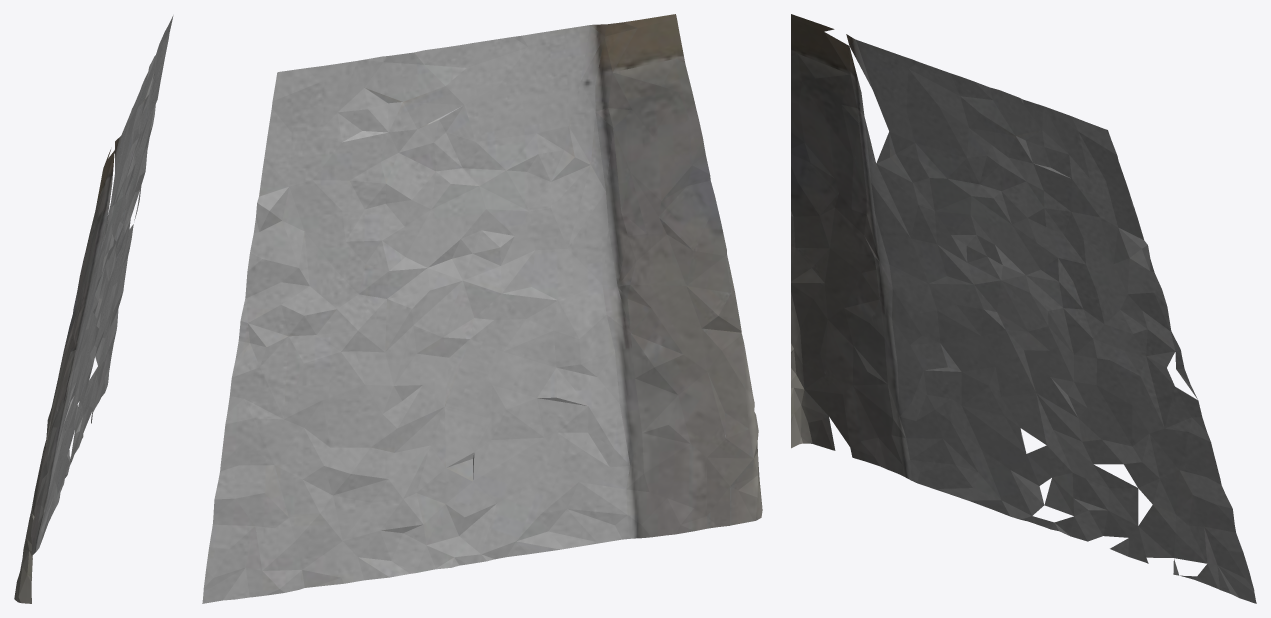
3 renders of one model, left to right at view 1: azimuth 30°, elevation 25°; view 2: azimuth 150°, elevation 25°; view 3: azimuth 270°, elevation 25°, orthographic. The views are drawn at different scales.
Size of the model in its own units: 0.6082 by 0.8374 by 0.7457.
Materials: 3 (3 with a texture image).
